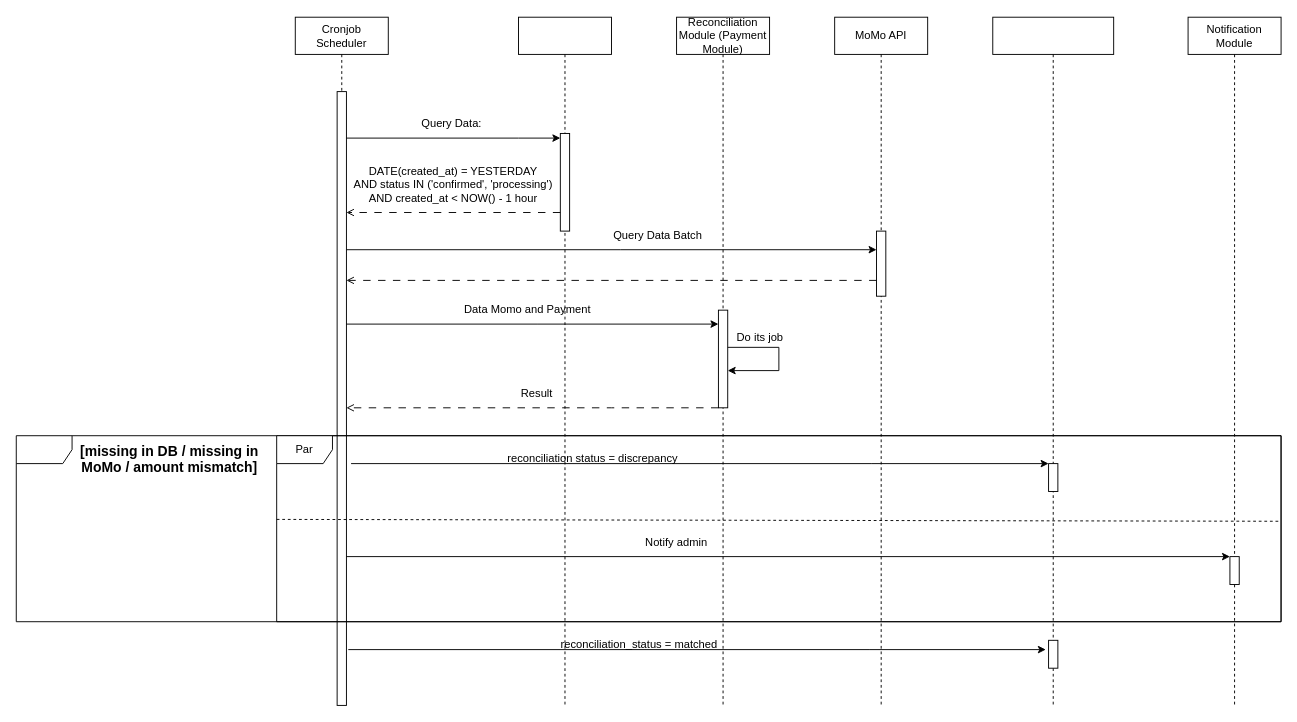
This 1297x722 diagram has some shape labels left out. Each missing label, with the box of its shape:
Break: (15, 435, 1281, 622)
Payment DB: (518, 16, 611, 705)
Reconciliation_Log Entity: (992, 16, 1114, 705)
